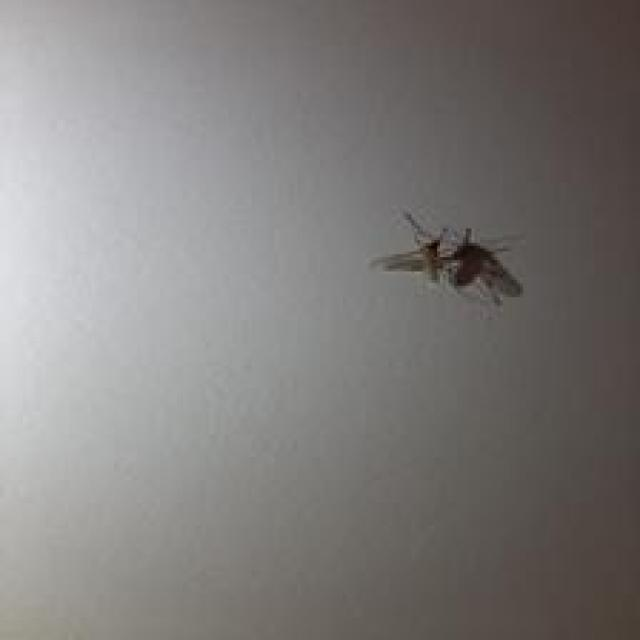Culex: (367, 208, 524, 308)
